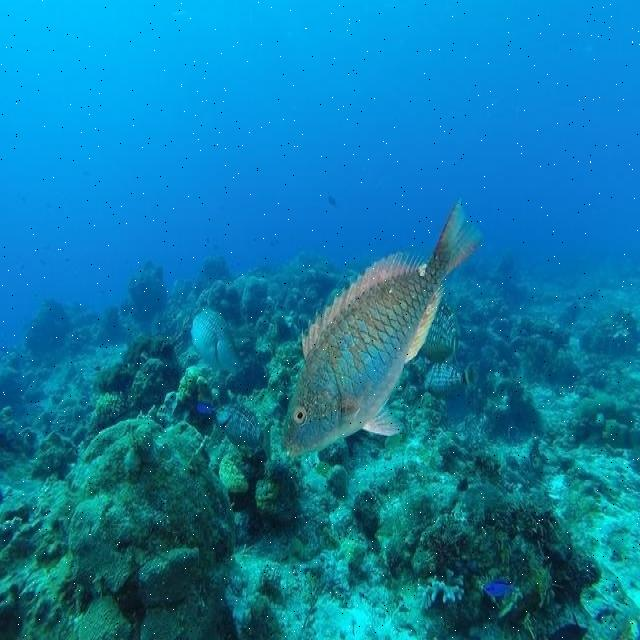fish: (285, 200, 482, 453), (191, 311, 251, 374), (423, 338, 480, 397), (219, 405, 276, 458)
